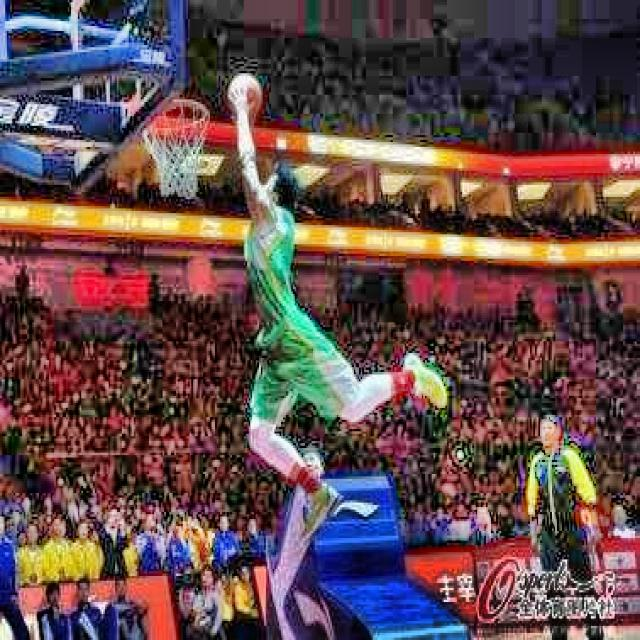rim: (143, 98, 211, 200)
